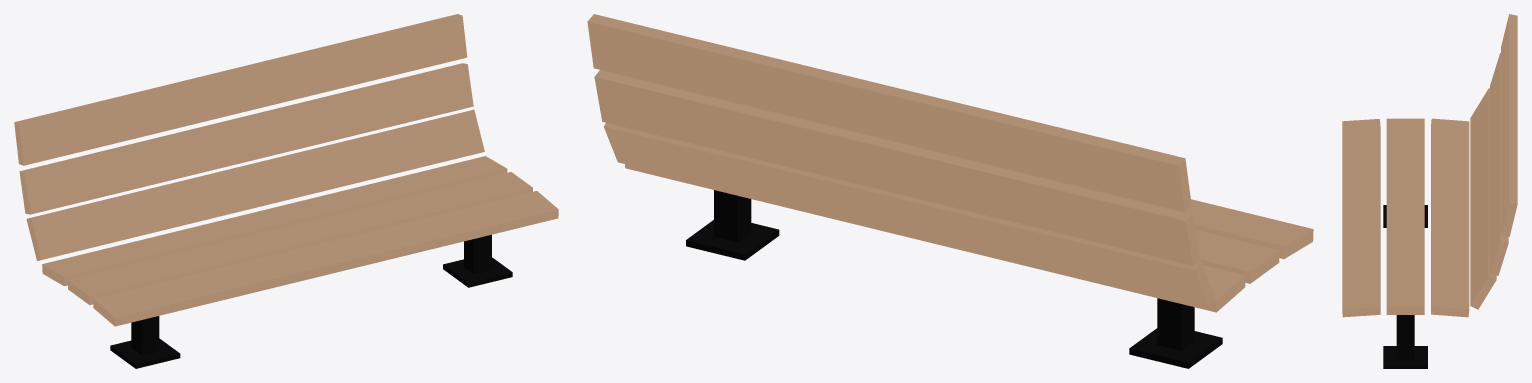
File: bench.fbx
The picture shows the model from 3 angles, left to right: view 1: azimuth 30°, elevation 25°; view 2: azimuth 150°, elevation 25°; view 3: azimuth 270°, elevation 25°; orthographic projection. The views are drawn at different scales.
Visible parts, largest first — view 1: Null_4; view 2: Null_4; view 3: Null_4.
Part boxes in pixels (box(x1,y1,x2,y2)): Null_4: box(14, 14, 558, 368); Null_4: box(587, 14, 1313, 368); Null_4: box(1342, 14, 1517, 368).
Size of the model in its own units: 200 by 87.49 by 78.97.
